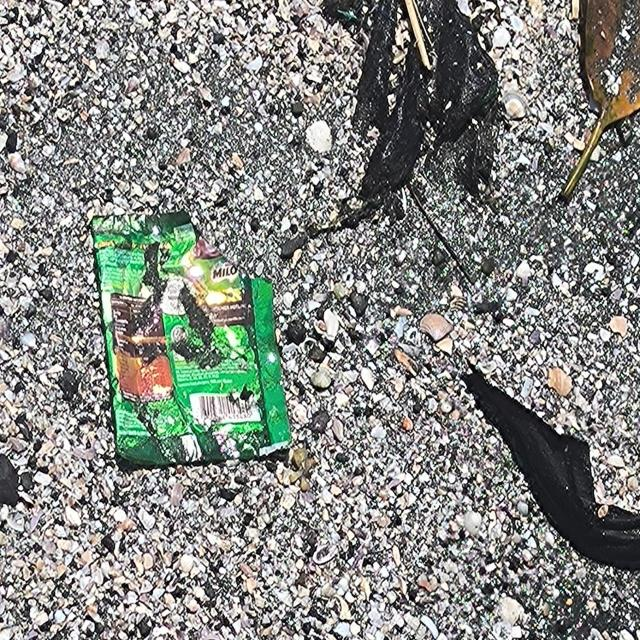plastic_waste: (93, 213, 295, 468)
